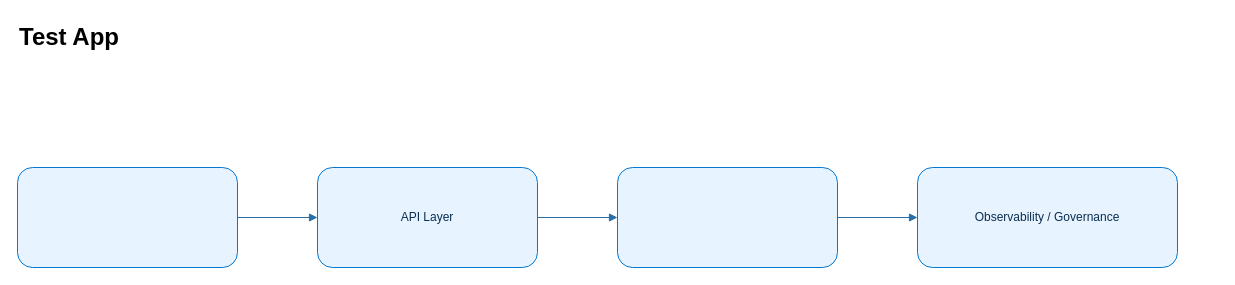
Some shapes in this 1235 by 285 pixel diagram are drawn without their labels. The shapes that lost their labels are listed below. From the top down, each one's centre as x and y in pixels, then its label:
At (127,217): "User Workflow".
At (727,217): "Azure Data / Knowledge".
